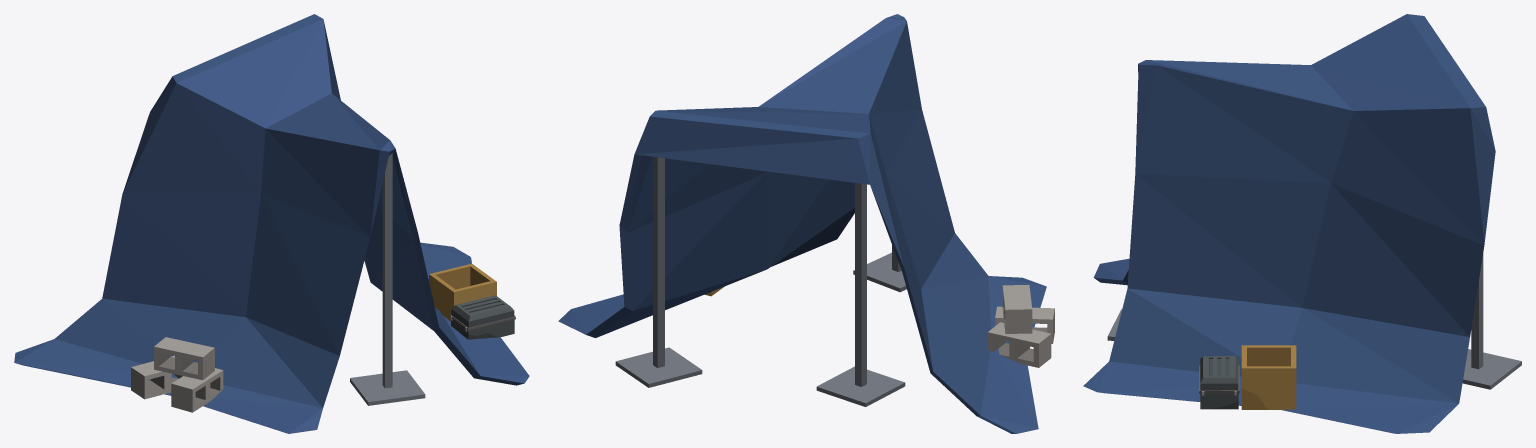
Rendered from AI_Prop_Makeshift_Tent_08.fbx.
The picture shows the model from 3 angles, left to right: view 1: azimuth 30°, elevation 25°; view 2: azimuth 150°, elevation 25°; view 3: azimuth 270°, elevation 25°; orthographic projection. The views are drawn at different scales.
Parts seen in each view (by area): view 1: AI_Prop_Makeshift_Tent_08; view 2: AI_Prop_Makeshift_Tent_08; view 3: AI_Prop_Makeshift_Tent_08.
Boxes of the visible parts, x1=… form: AI_Prop_Makeshift_Tent_08: x1=14, y1=14, x2=529, y2=433; AI_Prop_Makeshift_Tent_08: x1=558, y1=14, x2=1054, y2=433; AI_Prop_Makeshift_Tent_08: x1=1083, y1=14, x2=1521, y2=433.
Bounding box in the file's own units: 7.04 × 3.68 × 5.4.
